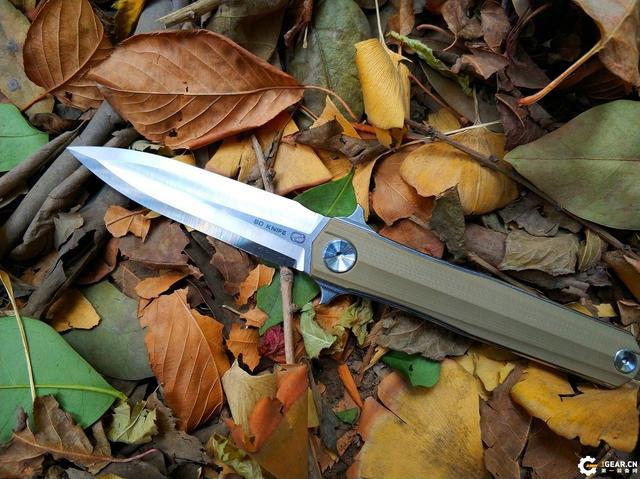knife: (43, 126, 637, 420)
